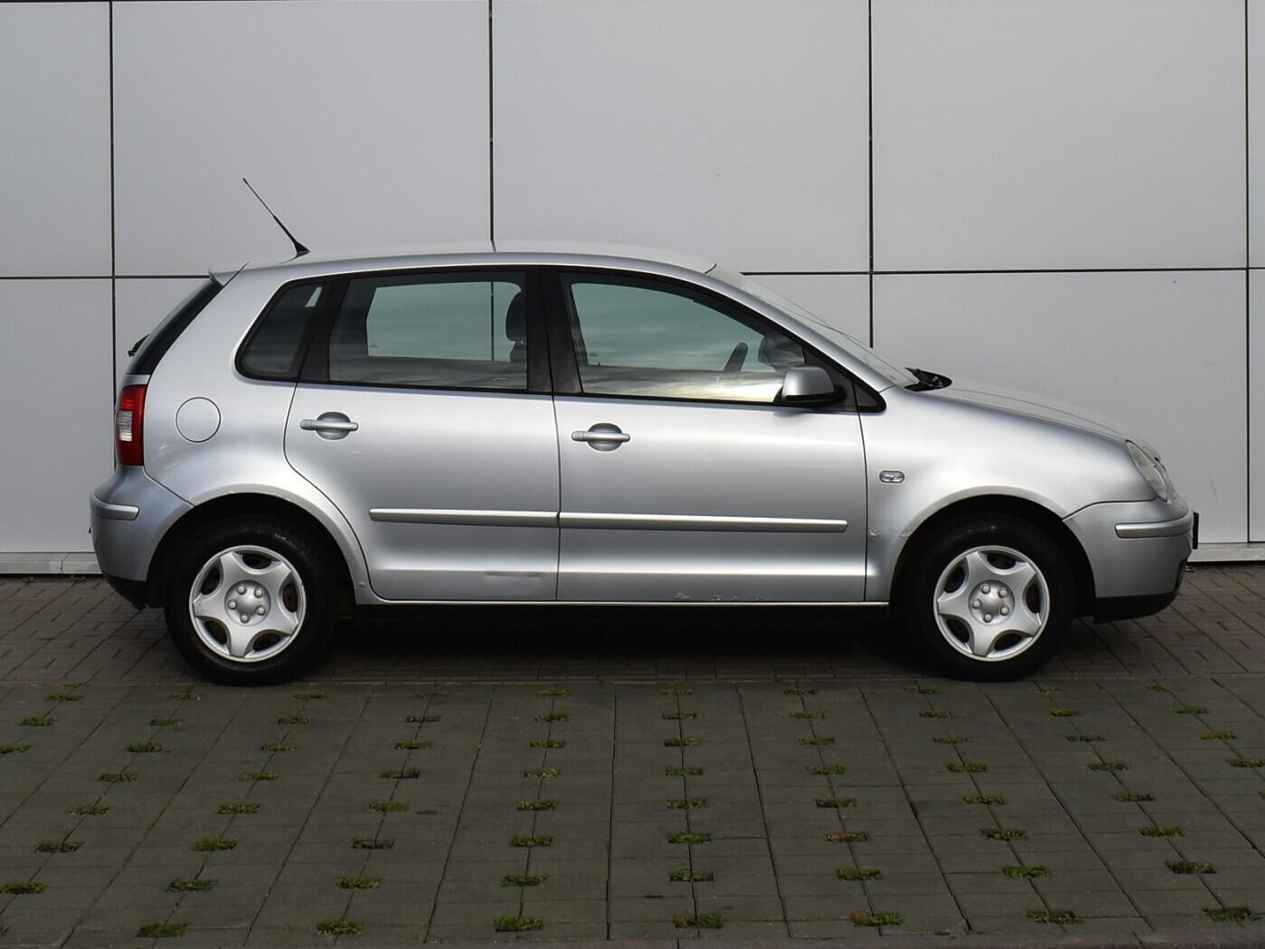Polo_2001-2005: (90, 237, 1219, 725)
